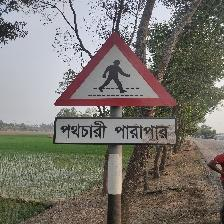Pedestrian-crossing: (52, 31, 178, 142)
